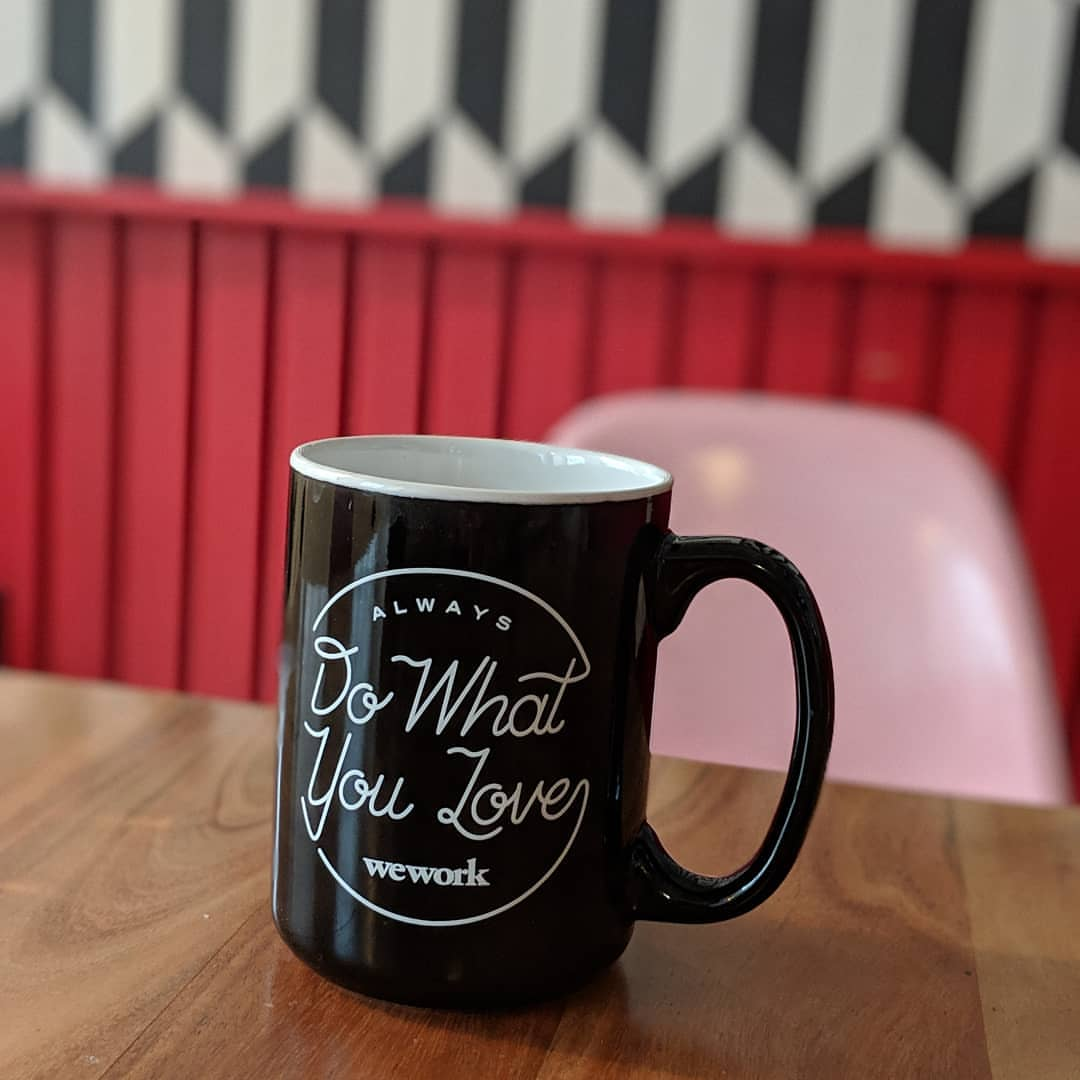wework: (358, 850, 493, 892)
